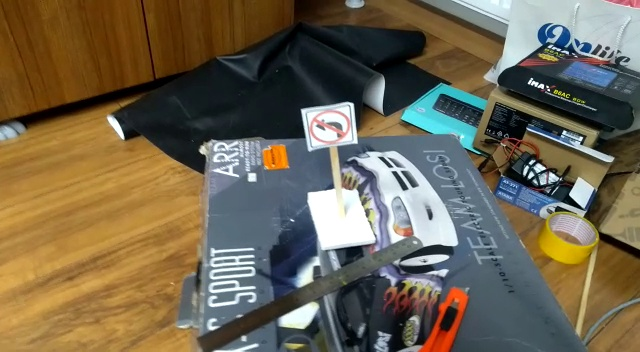sola_donulmez: (312, 105, 349, 148)
